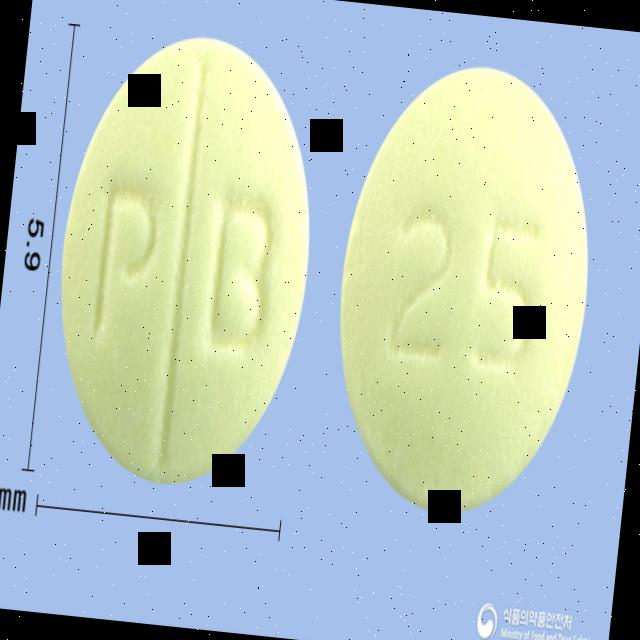Azabio - 50mg: (38, 18, 334, 500)
